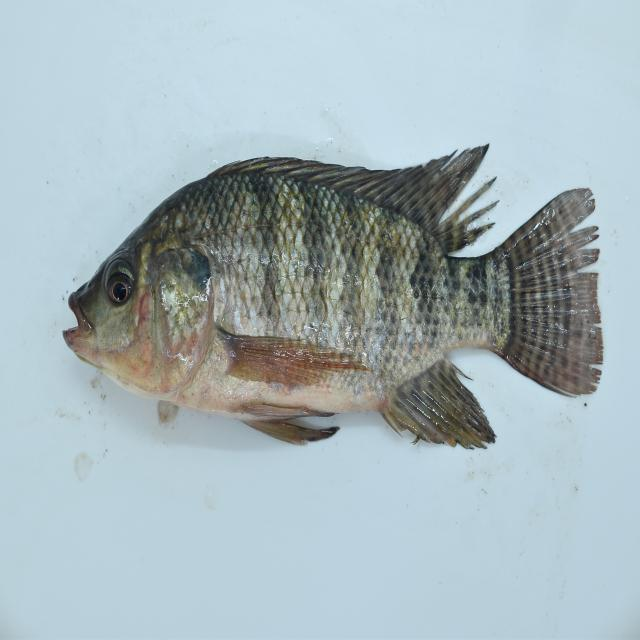Columnaris Disease: (36, 133, 614, 459)
